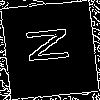N: (25, 24, 80, 65)
